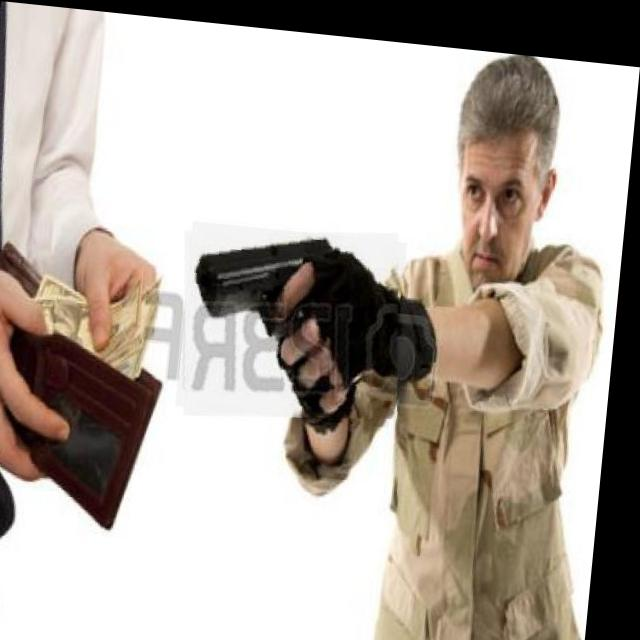handgun: (177, 210, 414, 422)
